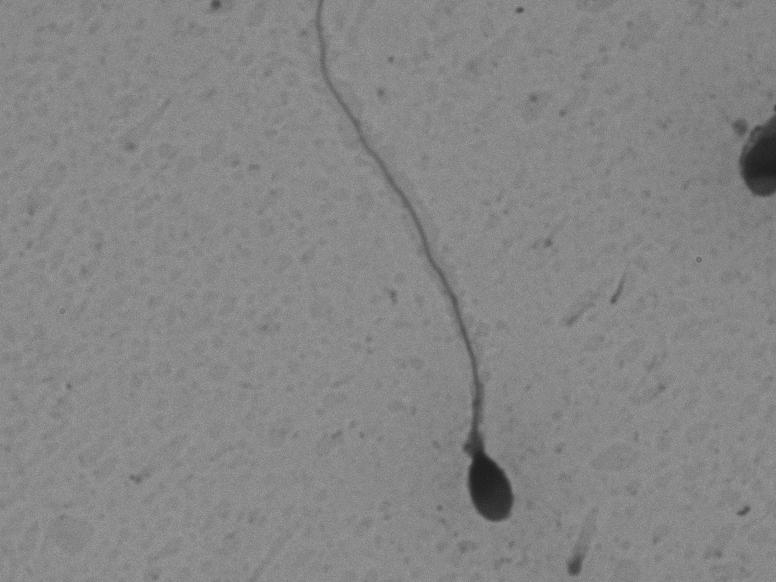Abnormal: (298, 5, 528, 551)
